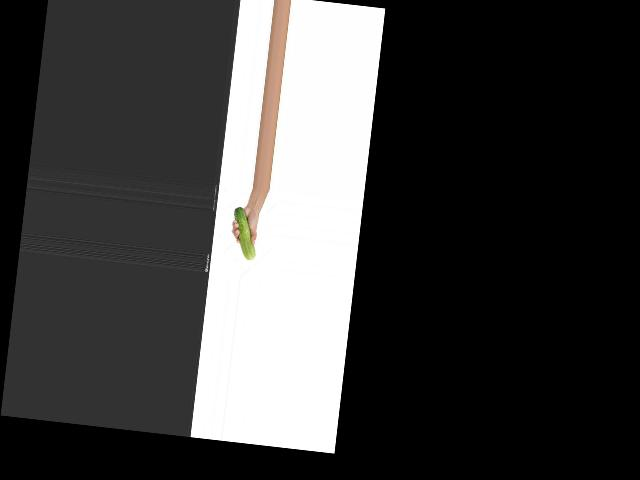cucumber: (229, 206, 260, 260)
